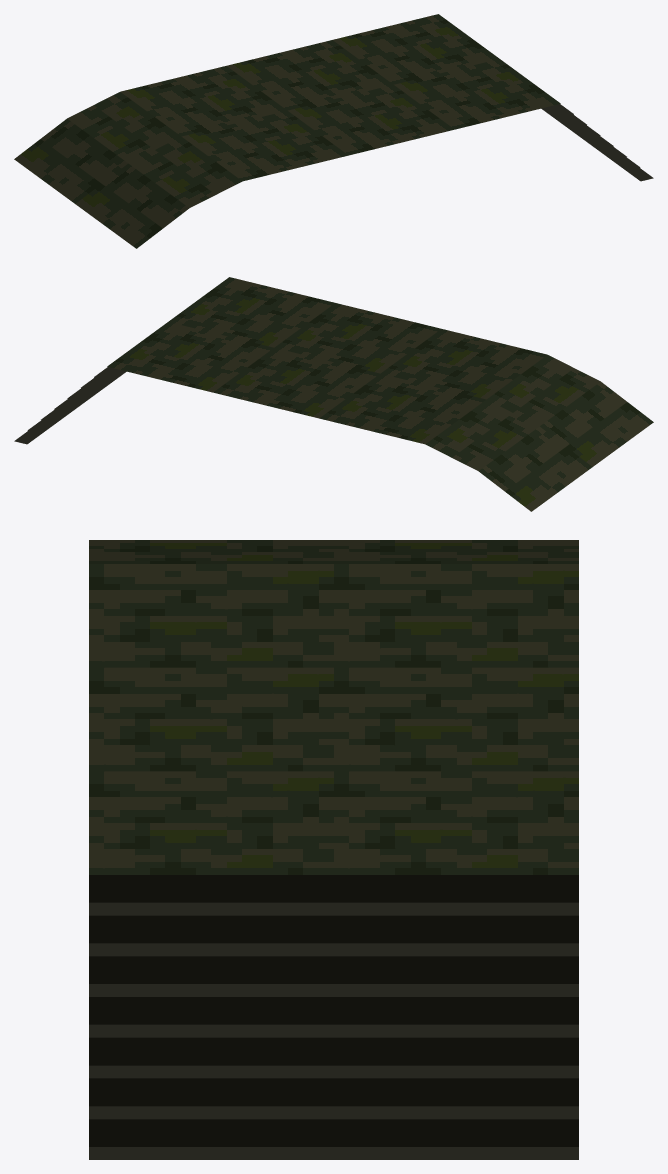
File: Bridge.gltf
3 views of the same model, one above another, from view 1: azimuth 30°, elevation 25°; view 2: azimuth 150°, elevation 25°; view 3: azimuth 270°, elevation 25° (orthographic). The views are drawn at different scales.
Visible parts, largest first — view 1: Bridge; view 2: Bridge; view 3: Bridge.
Boxes of the visible parts, x1,y1,x2,y2 form: Bridge: (14,14,653,248); Bridge: (14,277,653,511); Bridge: (89,540,578,1159).
Bounding box in the file's own units: 4.88 × 0.875 × 2.
1 material, 1 textured.
